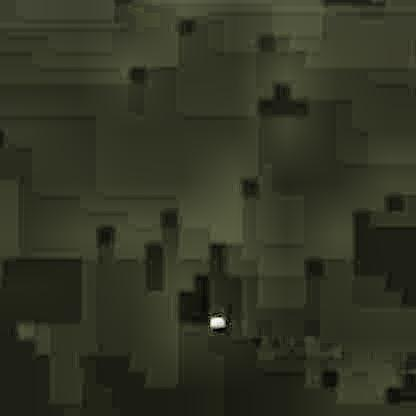golfball: (207, 314, 223, 328)
